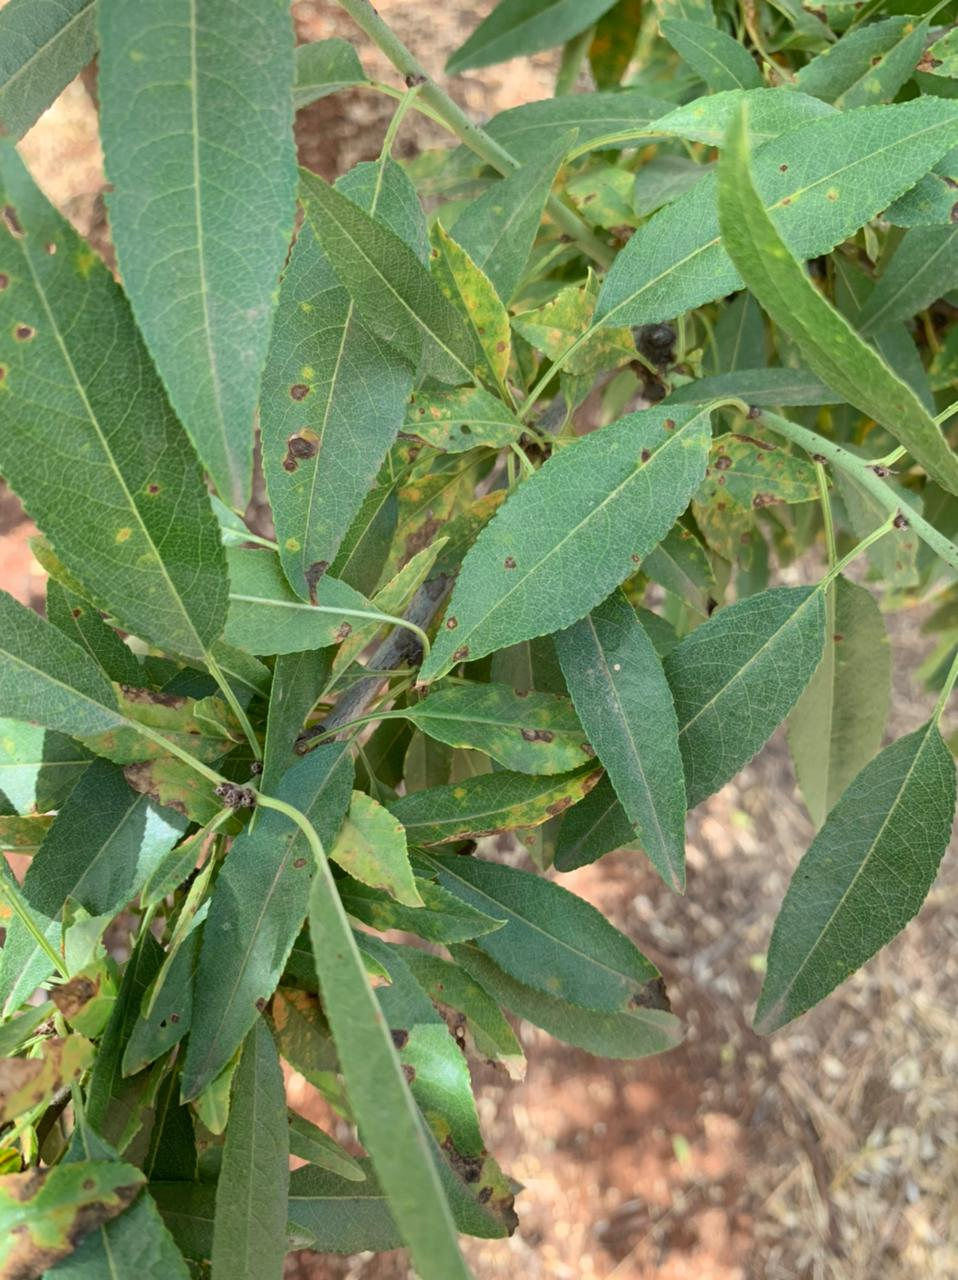coryneum: (414, 402, 713, 688), (258, 158, 435, 611), (175, 738, 358, 1104), (408, 684, 600, 776)
